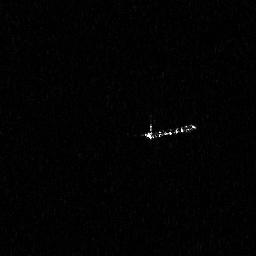ship: (139, 119, 198, 143)
